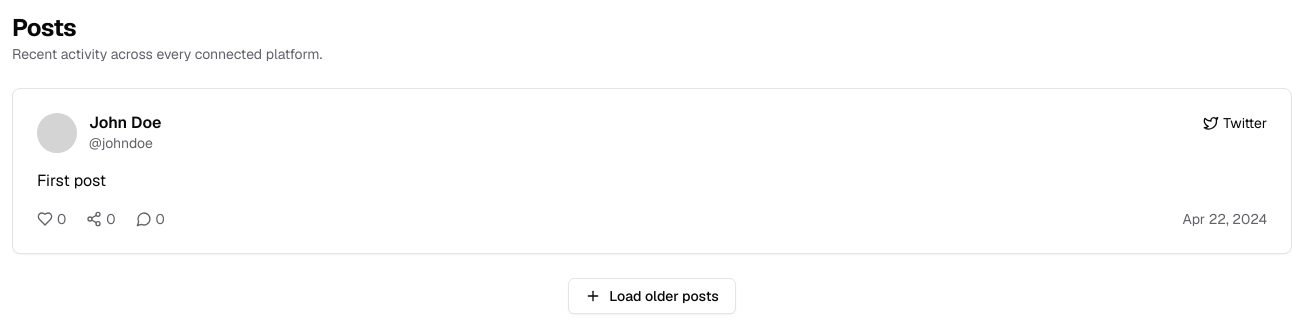
it: PostFeed › counts every share when clicked rapidly
Click the button named "shares": x=101, y=219 [86,209,116,229]
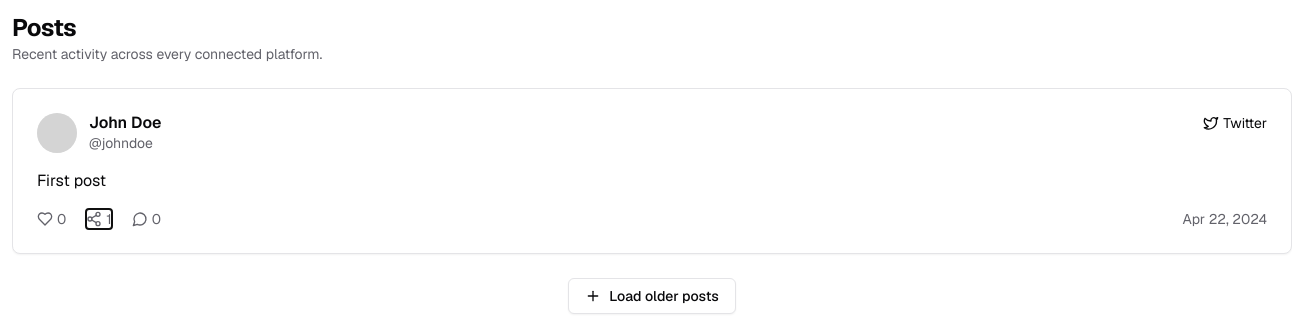
Click the button named "shares": x=99, y=219 [86,209,112,229]
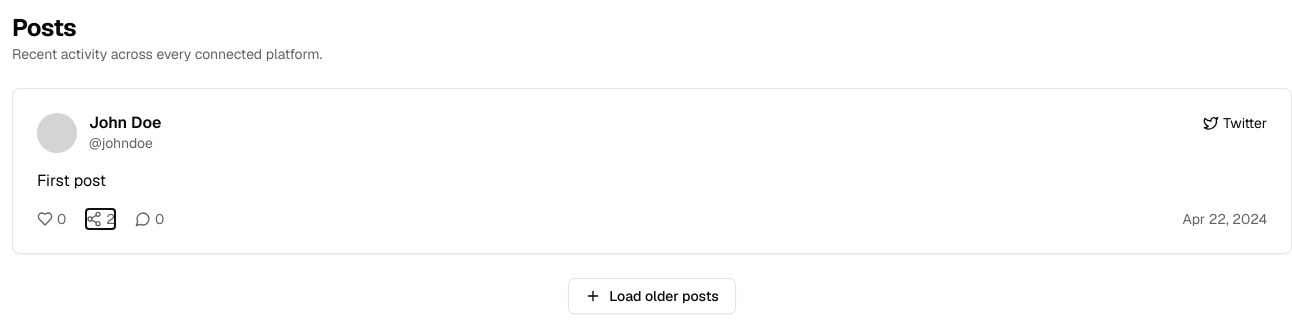
Now the button named "shares" reads "2", box [86,209,115,229]
